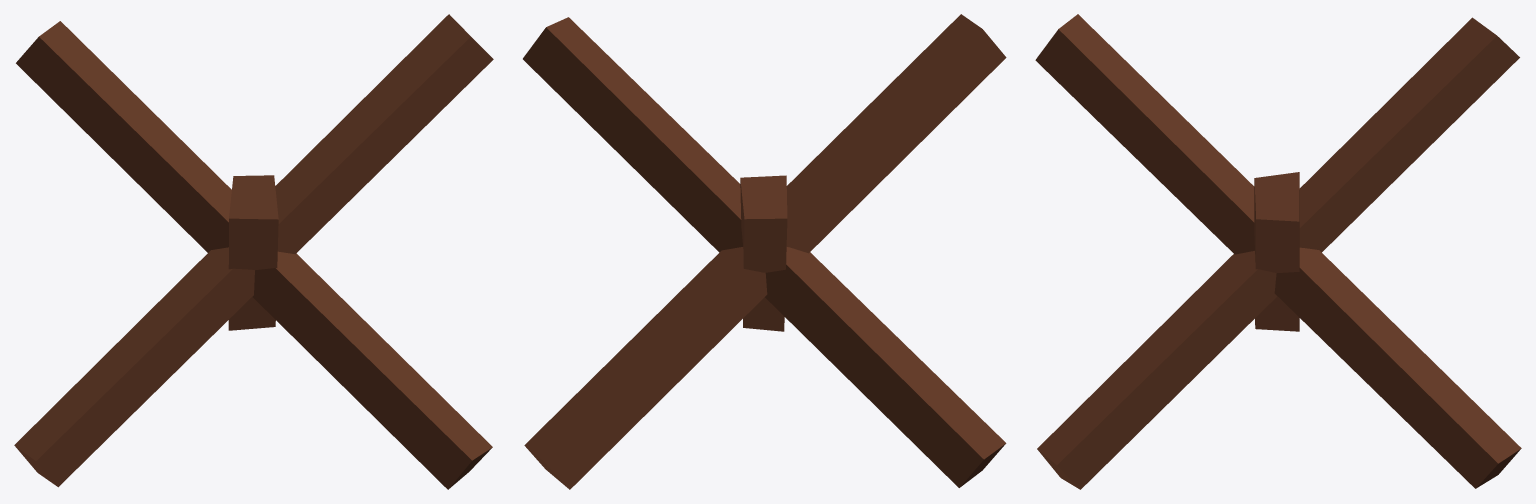
Rendered from tank_trap.glb.
3 views of the same model, side by side, from view 1: azimuth 30°, elevation 25°; view 2: azimuth 150°, elevation 25°; view 3: azimuth 270°, elevation 25° (orthographic).
Parts seen in each view (by area): view 1: tank_trap; view 2: tank_trap; view 3: tank_trap.
Part boxes in pixels (box(x1,y1,x2,y2)): tank_trap: box(14, 14, 493, 489); tank_trap: box(523, 14, 1006, 489); tank_trap: box(1035, 14, 1521, 489).
Size of the model in its own units: 1.64 by 1.23 by 1.49.
